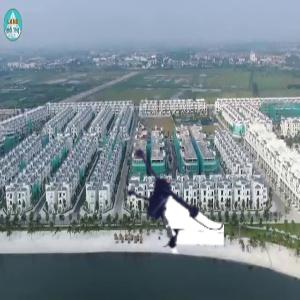drone: (102, 132, 226, 256)
